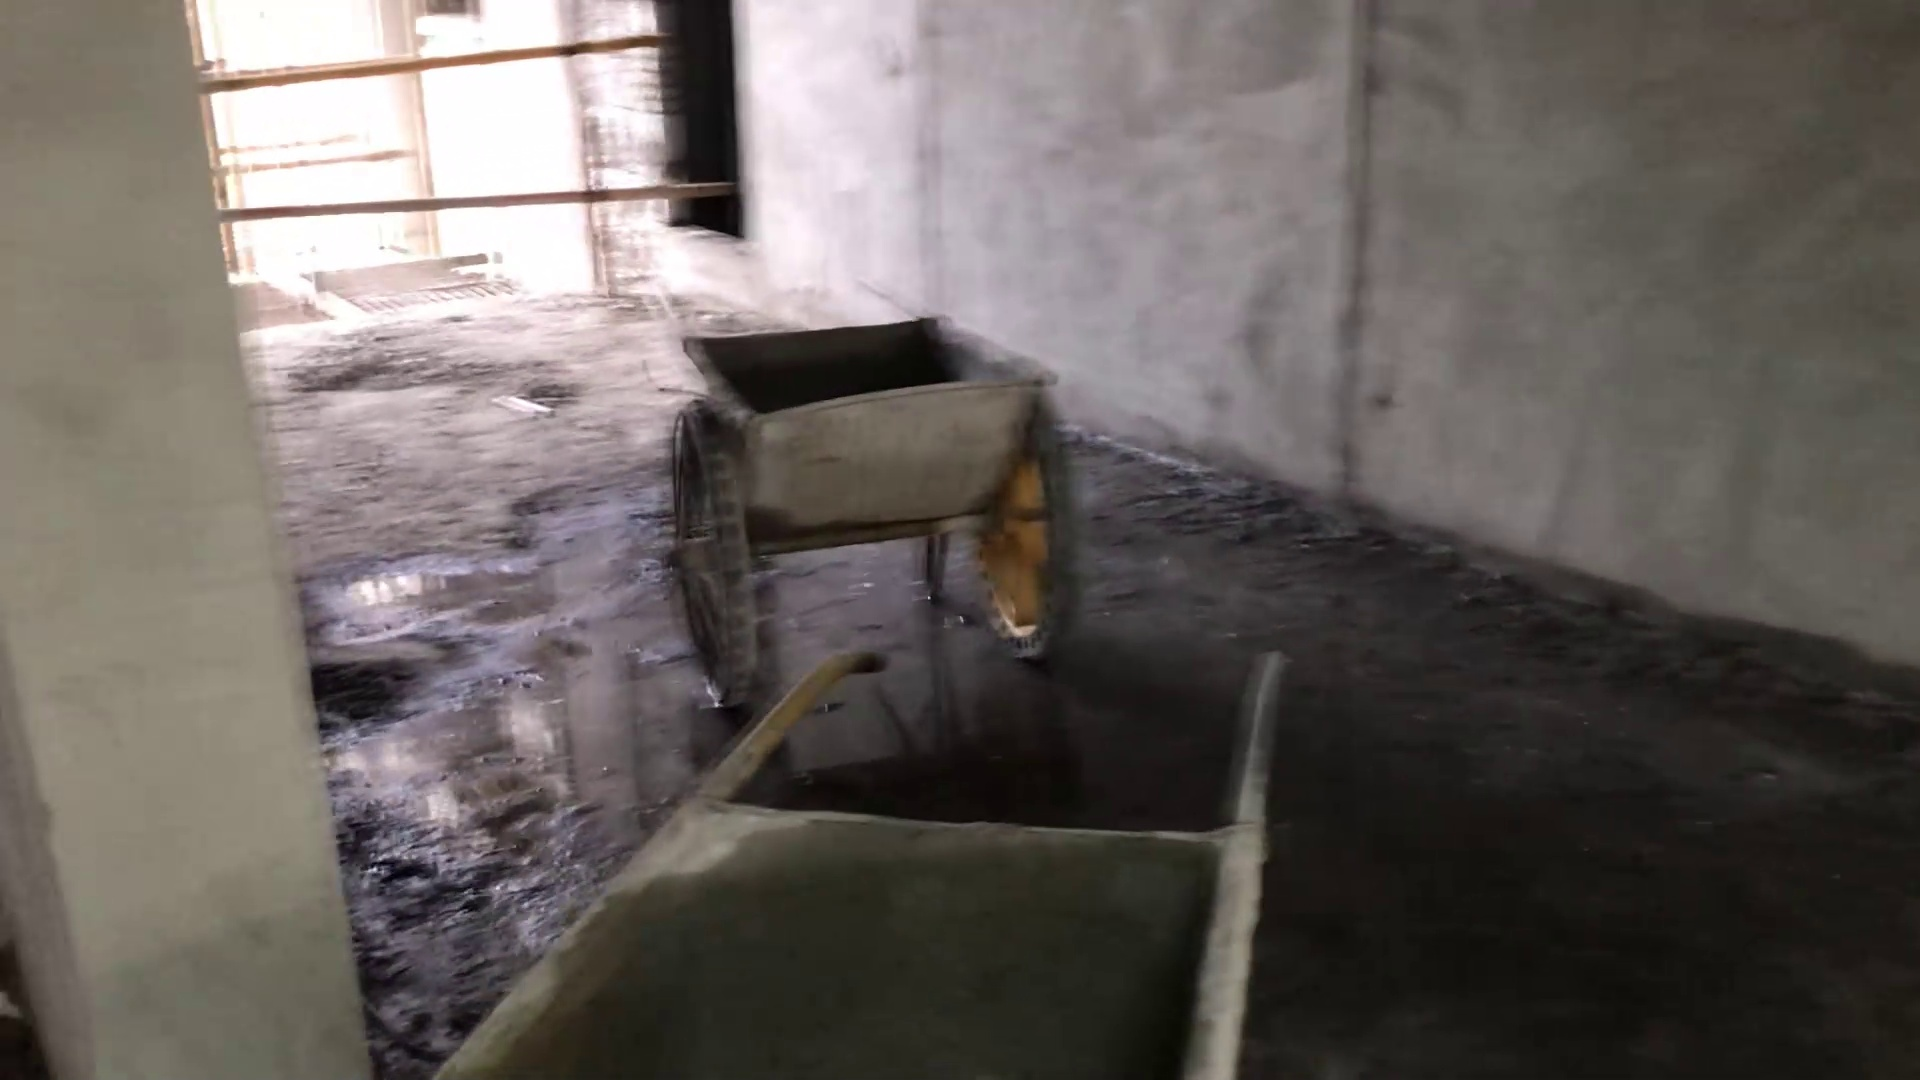handcart: (462, 637, 1396, 1067), (617, 282, 1124, 687)
